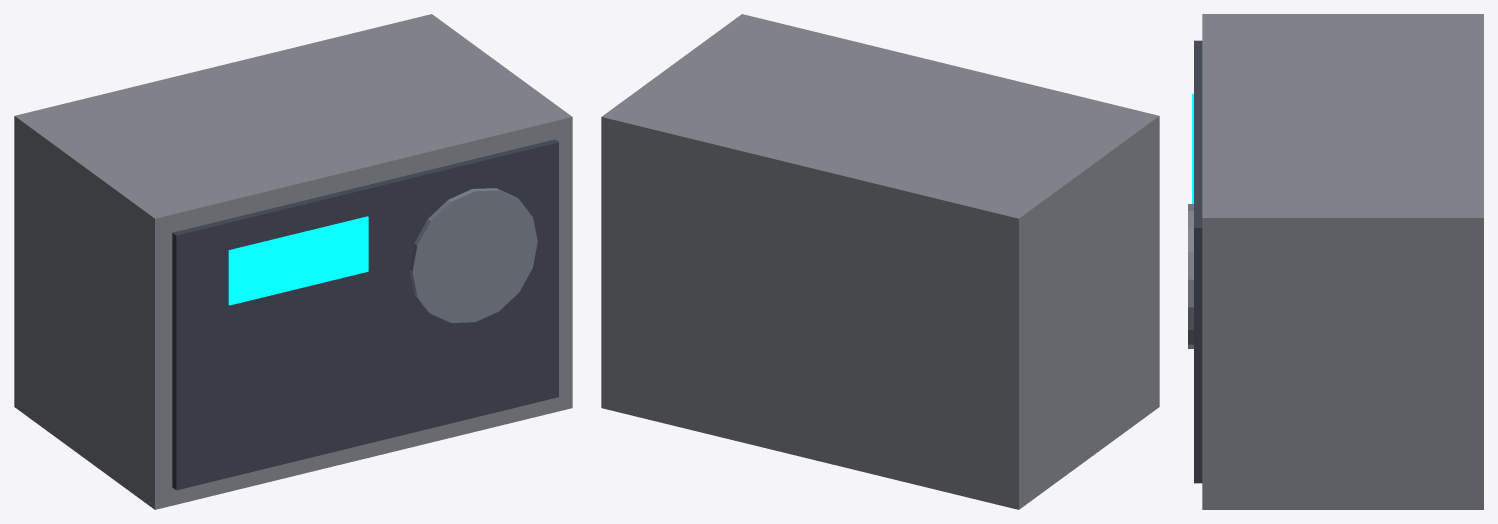
Rendered from DETAIL_AC_Unit_MD.glb.
3 renders of one model, left to right at view 1: azimuth 30°, elevation 25°; view 2: azimuth 150°, elevation 25°; view 3: azimuth 270°, elevation 25°, orthographic.
Parts seen in each view (by area): view 1: DETAIL_AC_Unit_MD; view 2: DETAIL_AC_Unit_MD; view 3: DETAIL_AC_Unit_MD.
Part boxes in pixels (x1,y1,x2,y2): DETAIL_AC_Unit_MD: (14,14,572,509); DETAIL_AC_Unit_MD: (601,14,1159,509); DETAIL_AC_Unit_MD: (1188,14,1483,509).
Bounding box in the file's own units: 1.2 × 0.8 × 0.735.
